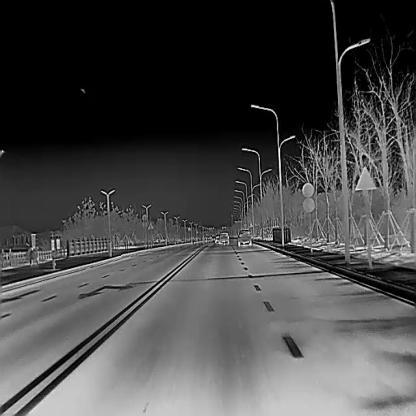car: (237, 229, 251, 245), (219, 232, 230, 245), (215, 234, 219, 243)
sign: (300, 195, 316, 216), (302, 180, 315, 198)
sign_danger: (350, 168, 378, 196)
